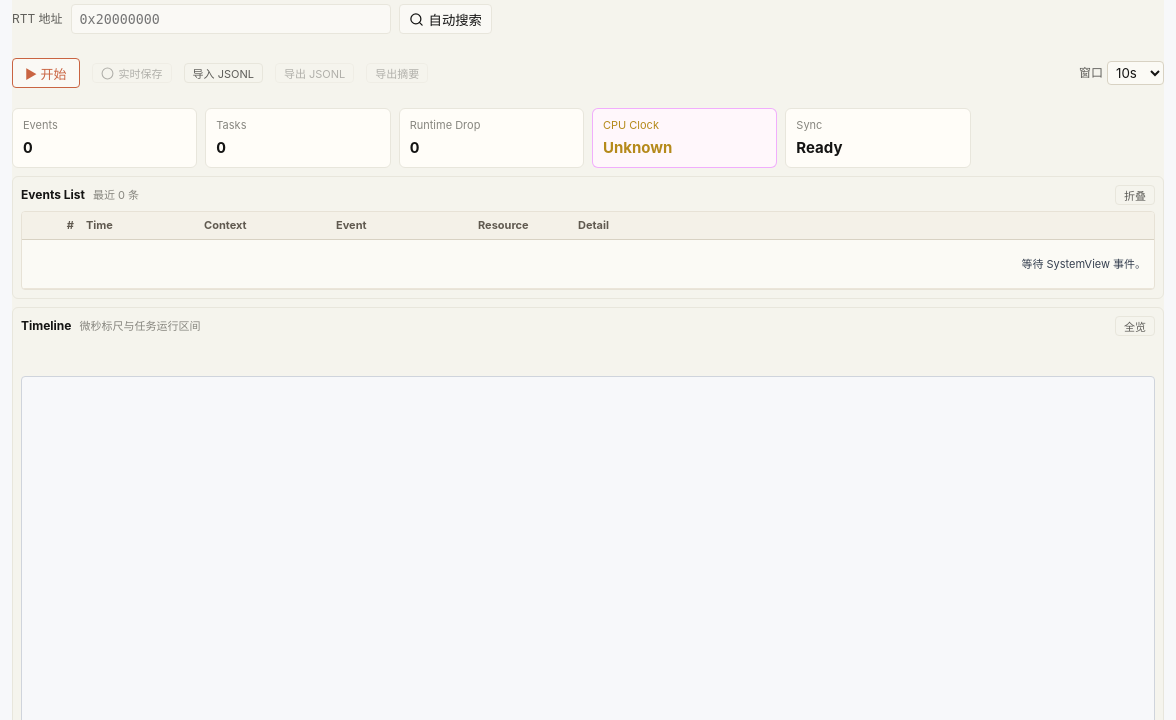
Test case: SystemViewTab asynchronous lifecycle › searches and persists an RTT address without visiting RTT View
Click the button with test id "systemview-rtt-search" at (445,19), box top-left (399, 4), bottom-right (492, 34)
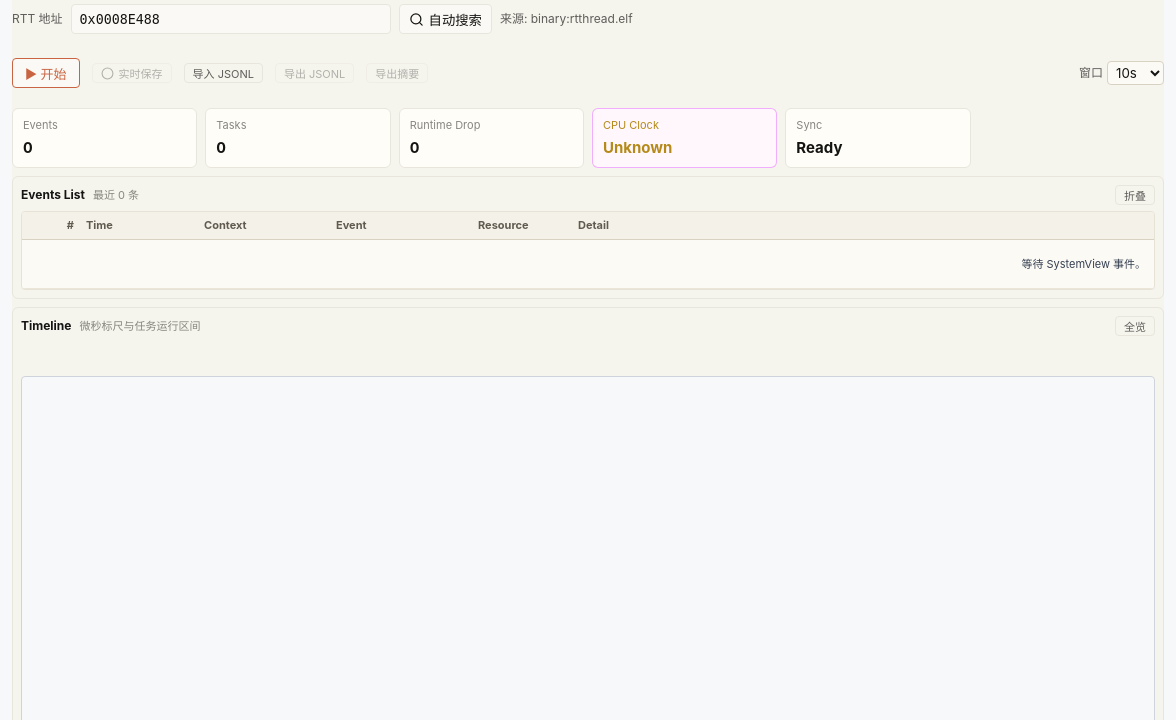
Expected: the field with test id "systemview-rtt-address" holds "0x0008E488", top-left (71, 4), bottom-right (391, 34)
